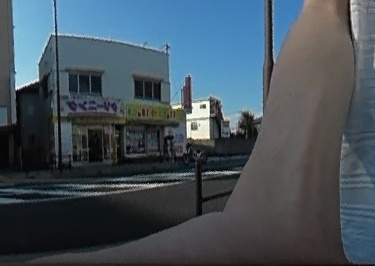person: (162, 137, 170, 159)
